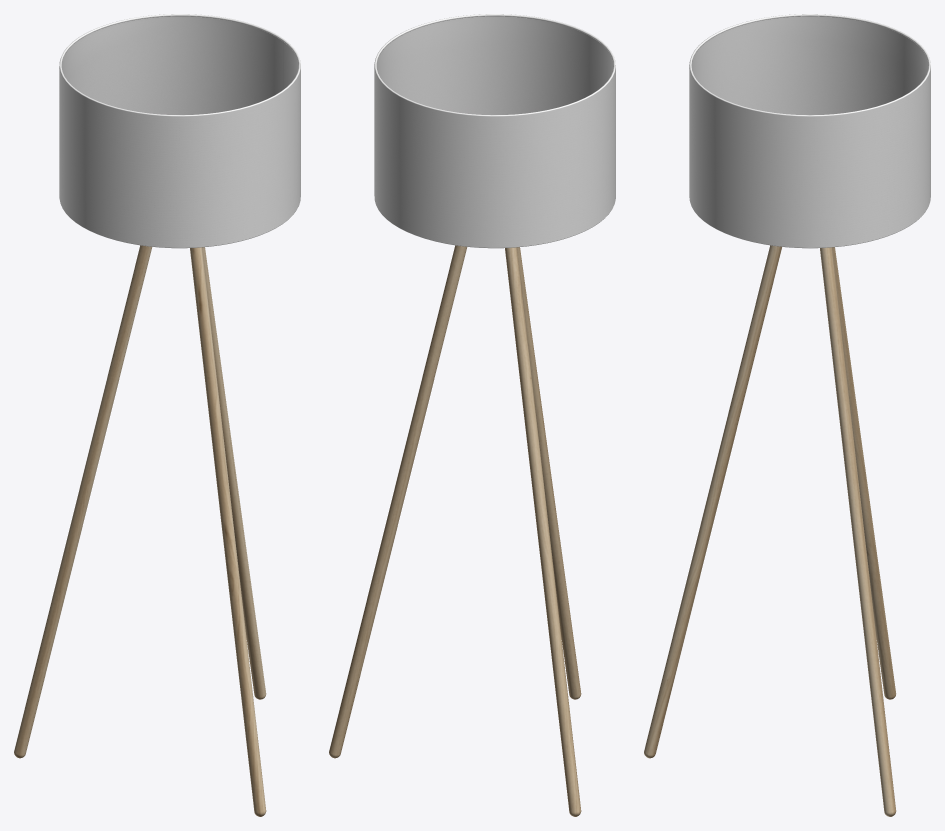
3 renders of one model, left to right at view 1: azimuth 30°, elevation 25°; view 2: azimuth 150°, elevation 25°; view 3: azimuth 270°, elevation 25°, orthographic.
Visible parts, largest first — view 1: LAMP_SHADE_GRAY, STEEL_WHITE, WOOD; view 2: LAMP_SHADE_GRAY, STEEL_WHITE, WOOD; view 3: LAMP_SHADE_GRAY, STEEL_WHITE, WOOD.
Part boxes in pixels (box(x1,y1,x2,y2)): LAMP_SHADE_GRAY: box(59, 14, 300, 248); STEEL_WHITE: box(61, 16, 298, 114); WOOD: box(14, 245, 266, 816); LAMP_SHADE_GRAY: box(374, 14, 615, 248); STEEL_WHITE: box(376, 16, 613, 114); WOOD: box(329, 245, 581, 816); LAMP_SHADE_GRAY: box(689, 14, 930, 248); STEEL_WHITE: box(691, 16, 928, 114); WOOD: box(644, 245, 896, 816).
Size of what is drawn, in the model's own units: 58.13 by 154 by 57.65.
5 materials, 4 textured.
